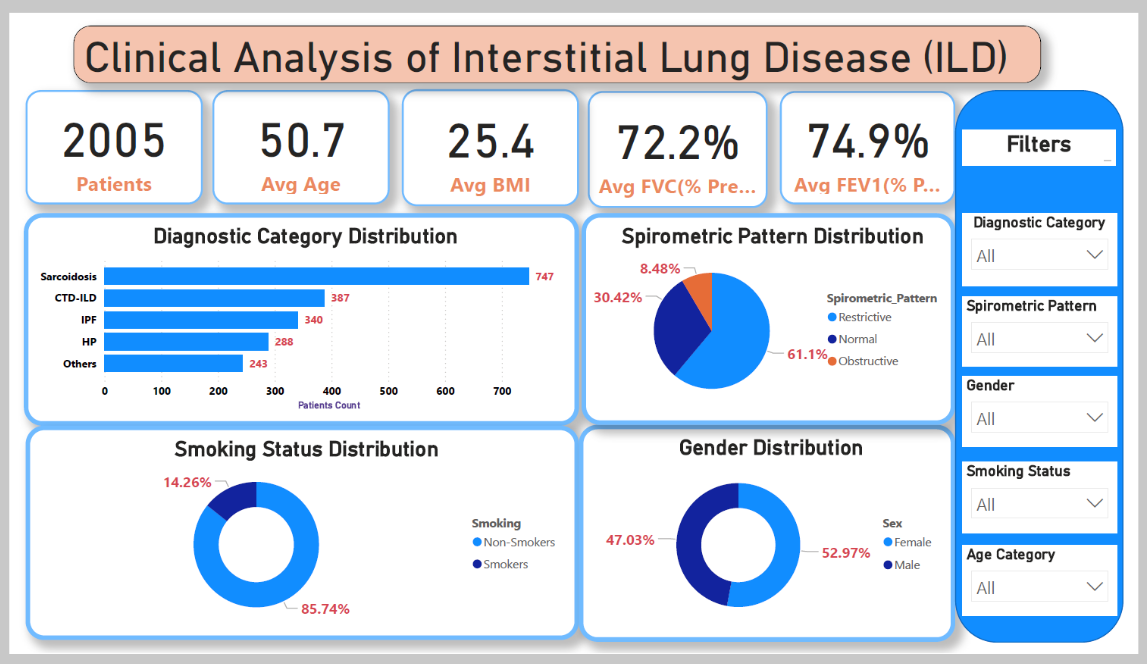

Layout of this report page (visuals, bound fields, positions):
{"tool":"powerbi","page":{"name":"Patient Characteristics & Diagnosis Overview","canvas":[1280,720],"ordinal":0},"visuals":[{"type":"card","fields":{"Values":["Measure.No of Patients"]},"box":[26.6,83.7,200,129.4],"z":0},{"type":"card","fields":{"Values":["Measure.Avg Age"]},"box":[237.9,83.7,199.8,129.4],"z":1000},{"type":"card","fields":{"Values":["Measure.Avg FVC"]},"box":[662.3,85.1,202.5,131.6],"z":2000},{"type":"card","fields":{"Values":["Measure.Avg BMI"]},"box":[451.6,83,200.5,131.6],"z":3000},{"type":"card","fields":{"Values":["Measure.Smokers %"]},"box":[808.7,228.3,230.3,131.3],"z":4000},{"type":"card","fields":{"Values":["Measure.Avg FEV1"]},"box":[879,85.1,198.5,127.6],"z":5000},{"type":"textbox","title":"Clinical Analysis of Interstitial Lung Disease (ILD)","box":[81.1,11.1,1092.7,65.2],"z":6000},{"type":"barChart","title":"Diagnostic Category Distribution","fields":{"Category":["Clinical_Analysis_of_ILD_Cleaned_Dataset.Diagnostic_Category"],"Y":["CountNonNull(Clinical_Analysis_of_ILD_Cleaned_Dataset.Patient_ID)"]},"box":[25.4,222.7,626.7,240.2],"z":7000},{"type":"donutChart","title":"Smoking Status Distribution","fields":{"Y":["CountNonNull(Clinical_Analysis_of_ILD_Cleaned_Dataset.Patient_ID)"],"Category":["Clinical_Analysis_of_ILD_Cleaned_Dataset.Smoking"]},"box":[27,462.9,625.1,241.8],"z":8000},{"type":"donutChart","title":"Gender Distribution","fields":{"Y":["CountNonNull(Clinical_Analysis_of_ILD_Cleaned_Dataset.Patient_ID)"],"Category":["Clinical_Analysis_of_ILD_Cleaned_Dataset.Sex"]},"box":[652.2,461.8,425.3,245.1],"z":9000},{"type":"pieChart","title":"Spirometric Pattern Distribution","fields":{"Y":["CountNonNull(Clinical_Analysis_of_ILD_Cleaned_Dataset.Patient_ID)"],"Category":["Clinical_Analysis_of_ILD_Cleaned_Dataset.Spirometric_Pattern"]},"box":[654.6,222.6,422.4,239.8],"z":10000},{"type":"shape","box":[1077,83.7,190.3,624.2],"z":11000},{"type":"textbox","title":"Filters","box":[1084.8,128.8,173.4,39.8],"z":12000},{"type":"slicer","title":"Diagnostic Category","fields":{"Values":["Clinical_Analysis_of_ILD_Cleaned_Dataset.Diagnostic_Category"]},"box":[1084.8,222.7,175,82.7],"z":13000},{"type":"slicer","title":"Spirometric Pattern","fields":{"Values":["Clinical_Analysis_of_ILD_Cleaned_Dataset.Spirometric_Pattern"]},"box":[1084.8,316.5,175,79.5],"z":14000},{"type":"slicer","title":"Gender","fields":{"Values":["Clinical_Analysis_of_ILD_Cleaned_Dataset.Sex"]},"box":[1084.8,407.2,175,79.5],"z":15000},{"type":"slicer","title":"Smoking Status","fields":{"Values":["Clinical_Analysis_of_ILD_Cleaned_Dataset.Smoking"]},"box":[1084.8,504.2,175,79.5],"z":16000},{"type":"slicer","title":"Age Category","fields":{"Values":["Clinical_Analysis_of_ILD_Cleaned_Dataset.Age_Category"]},"box":[1084.8,598.1,175,79.5],"z":17000}]}

Visuals, with their boxes in screenshot pixels (x1, y1, x2, y2), scaled from the page's 1280x720 canvas onto the 1147x664 screenshot:
card - Measure.No of Patients: <bbox>24, 77, 203, 197</bbox>
card - Measure.Avg Age: <bbox>213, 77, 392, 197</bbox>
card - Measure.Avg FVC: <bbox>593, 78, 775, 200</bbox>
card - Measure.Avg BMI: <bbox>405, 77, 584, 198</bbox>
card - Measure.Smokers %: <bbox>725, 211, 931, 332</bbox>
card - Measure.Avg FEV1: <bbox>788, 78, 966, 196</bbox>
"Clinical Analysis of Interstitial Lung Disease (ILD)" textbox: <bbox>73, 10, 1052, 70</bbox>
"Diagnostic Category Distribution" barChart: <bbox>23, 205, 584, 427</bbox>
"Smoking Status Distribution" donutChart: <bbox>24, 427, 584, 650</bbox>
"Gender Distribution" donutChart: <bbox>584, 426, 966, 652</bbox>
"Spirometric Pattern Distribution" pieChart: <bbox>587, 205, 965, 426</bbox>
shape: <bbox>965, 77, 1136, 653</bbox>
"Filters" textbox: <bbox>972, 119, 1127, 155</bbox>
"Diagnostic Category" slicer: <bbox>972, 205, 1129, 282</bbox>
"Spirometric Pattern" slicer: <bbox>972, 292, 1129, 365</bbox>
"Gender" slicer: <bbox>972, 376, 1129, 449</bbox>
"Smoking Status" slicer: <bbox>972, 465, 1129, 538</bbox>
"Age Category" slicer: <bbox>972, 552, 1129, 625</bbox>
